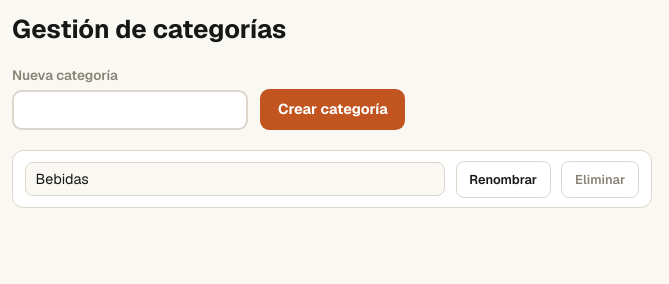
Scenario: CategoriasManagement (T38, RF-1) › shows the 409 error when deleting a category with products assigned
The width and height of the screenshot is (669, 284).
Expected: the field showing "Bebidas" is shown, [25,162,445,196]
Click the button "Eliminar" at {"x": 600, "y": 179}, box [561,161,639,198]
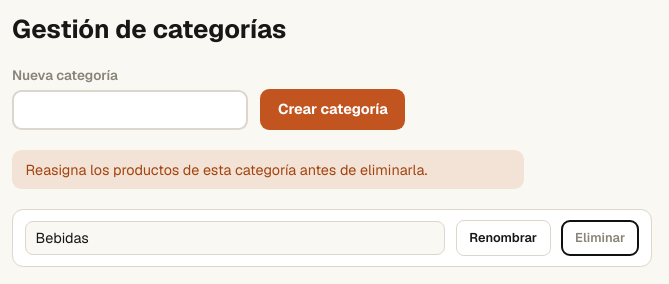
Result: the text "Reasigna los productos de esta categoría antes de eliminarla." is shown at [12,150,524,189]
